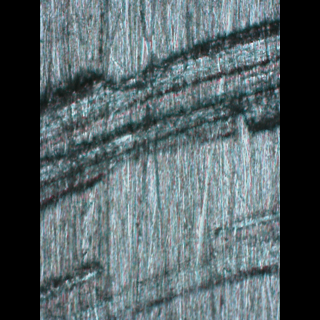d: (44, 9, 279, 214), (124, 209, 279, 309), (40, 251, 112, 319)
